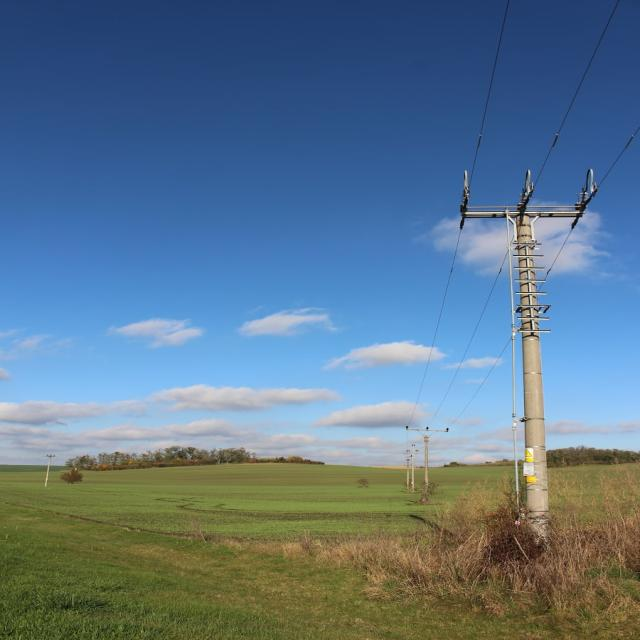transmission tower: (402, 153, 632, 516)
